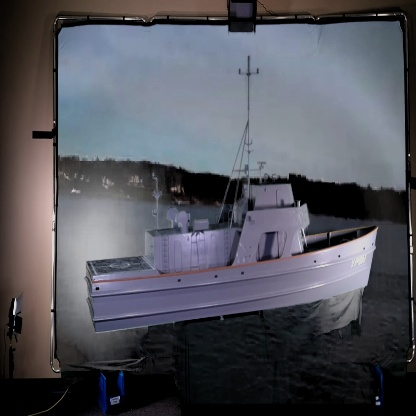YP689: (85, 56, 380, 335)
